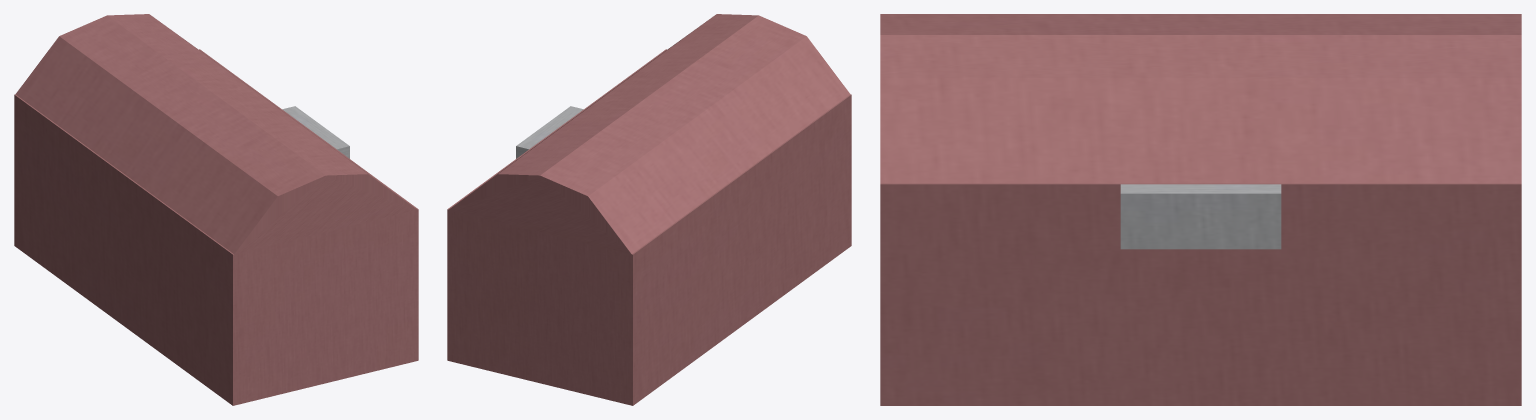
Rendered from cajaHerramientas.fbx.
3 views of the same model, side by side, from view 1: azimuth 30°, elevation 25°; view 2: azimuth 150°, elevation 25°; view 3: azimuth 270°, elevation 25° (orthographic). The views are drawn at different scales.
Parts seen in each view (by area): view 1: Cube; view 2: Cube; view 3: Cube.
Part boxes in pixels (bbox=[...]): Cube: bbox=[14, 14, 418, 405]; Cube: bbox=[447, 14, 851, 405]; Cube: bbox=[880, 14, 1521, 405].
Bounding box in the file's own units: 51.73 × 51.62 × 98.52.
Materials: 1 (1 with a texture image).
